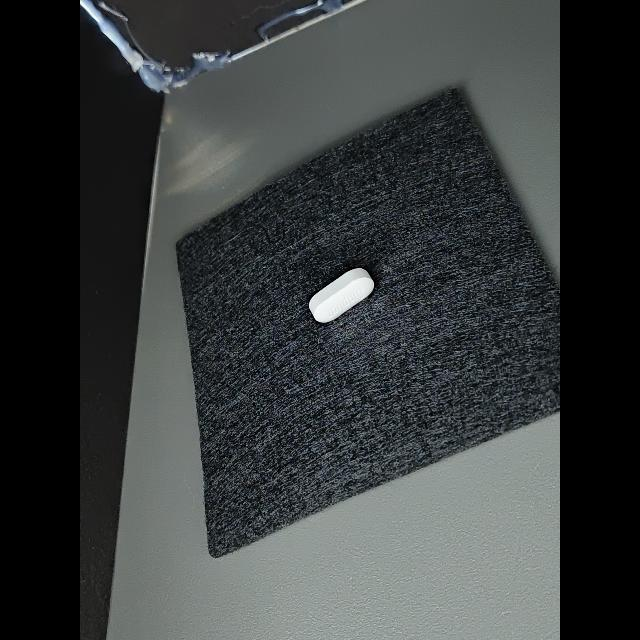Intact Pill: (309, 268, 374, 323)
